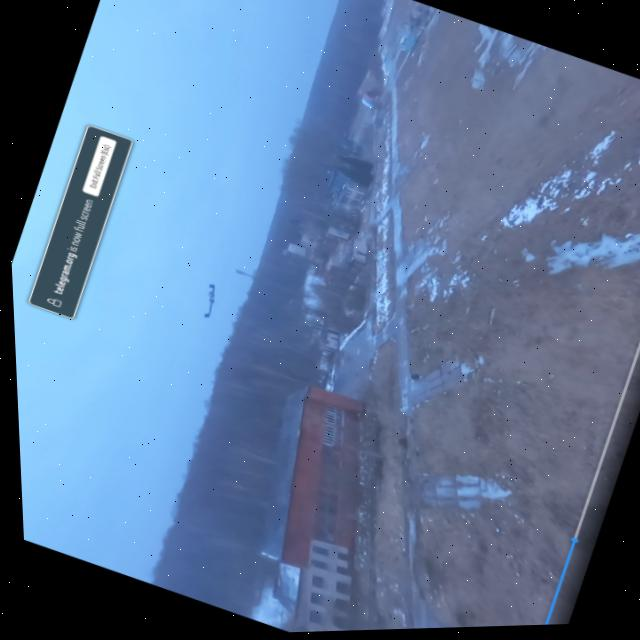planedrone: (197, 282, 221, 320)
